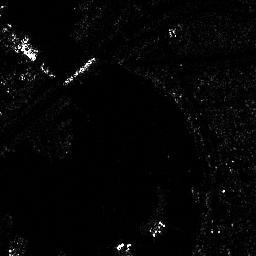ship: (62, 55, 96, 85)
